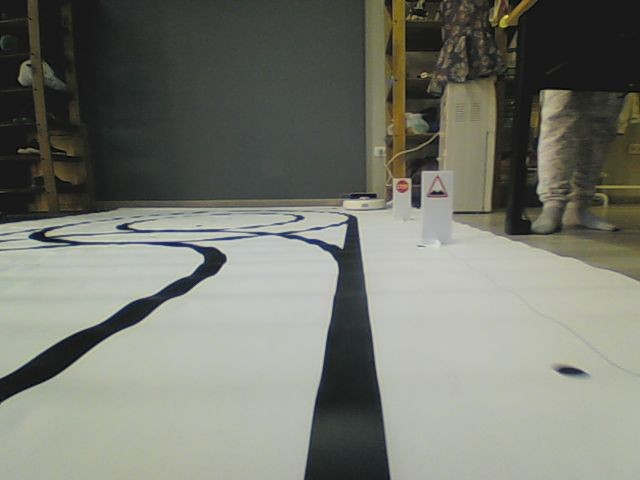Nerov: (425, 174, 449, 199)
